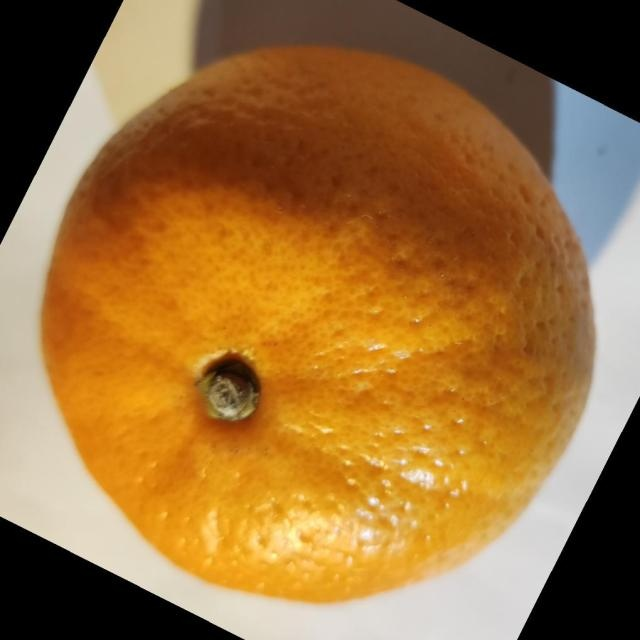agrume: (39, 43, 597, 604)
